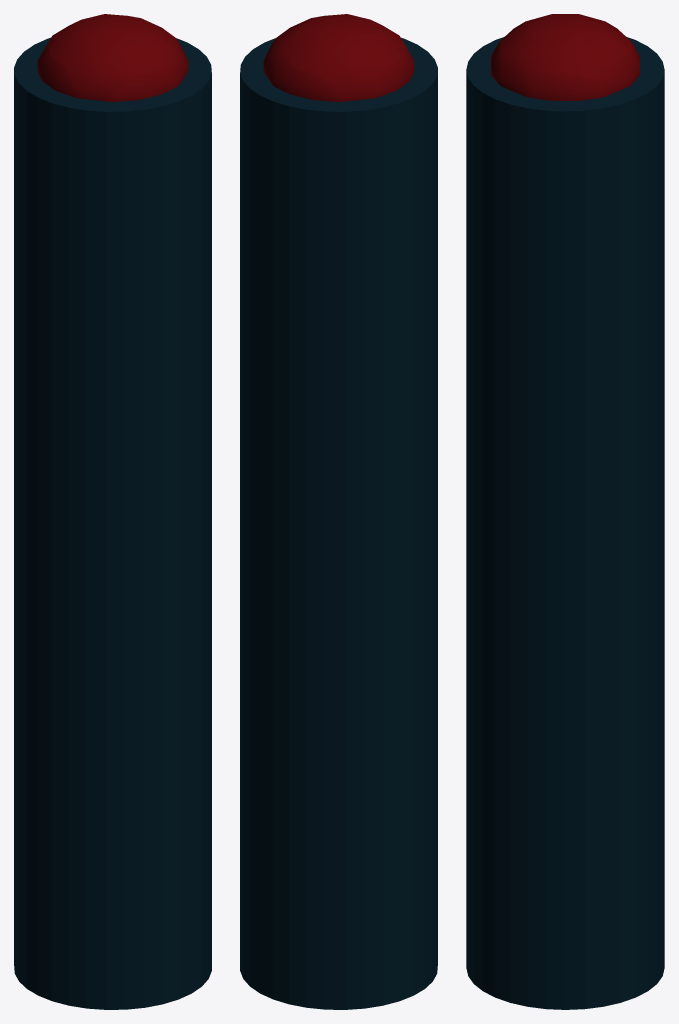
File: ActivateButton.fbx
3 renders of one model, left to right at view 1: azimuth 30°, elevation 25°; view 2: azimuth 150°, elevation 25°; view 3: azimuth 270°, elevation 25°, orthographic.
Visible parts, largest first — view 1: Cylinder, Mball; view 2: Cylinder, Mball; view 3: Cylinder, Mball.
Boxes of the visible parts, x1,y1,x2,y2 form: Cylinder: [14, 37, 211, 1009]; Mball: [37, 14, 188, 101]; Cylinder: [240, 37, 437, 1009]; Mball: [263, 14, 414, 101]; Cylinder: [466, 37, 664, 1009]; Mball: [491, 14, 639, 100].
Size of the model in its own units: 100 by 525 by 100.
